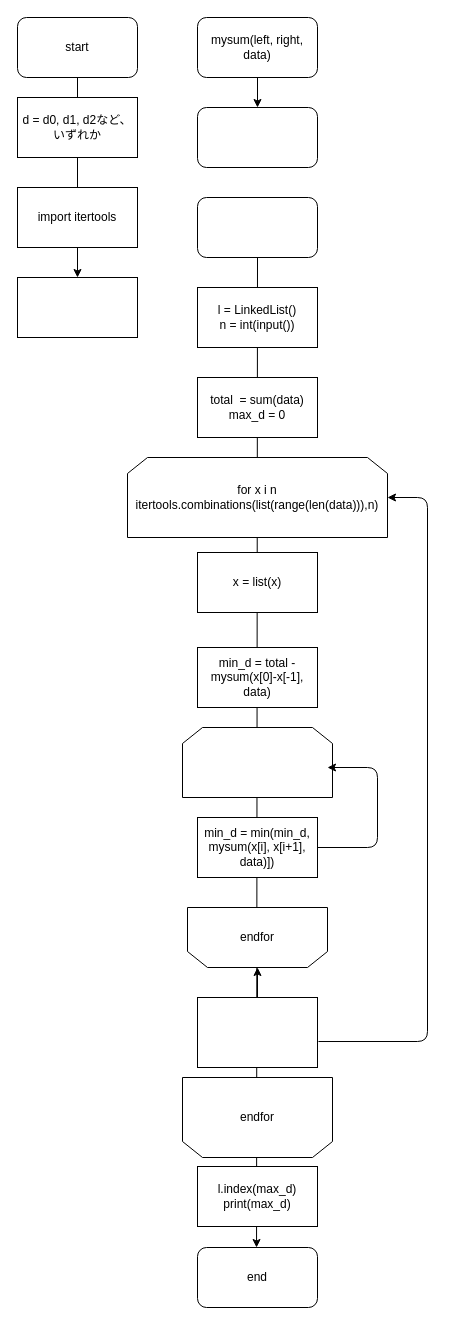
This 453x1325 diagram has some shape labels left out. The centre of each missing label's shape, as x and y in pixels:
"for i in range(len(x) -1)" belongs at point 257,762.
"l.insert(x, min_d)" belongs at point 257,1032.
"main(d)" belongs at point 77,307.
"main(data)" belongs at point 257,227.
"return sum(data[left:right])" belongs at point 257,137.
